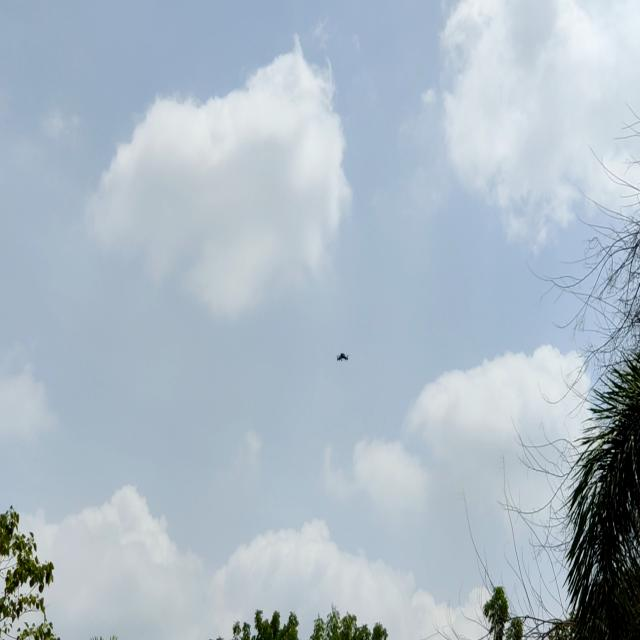drone: (333, 348, 352, 366)
